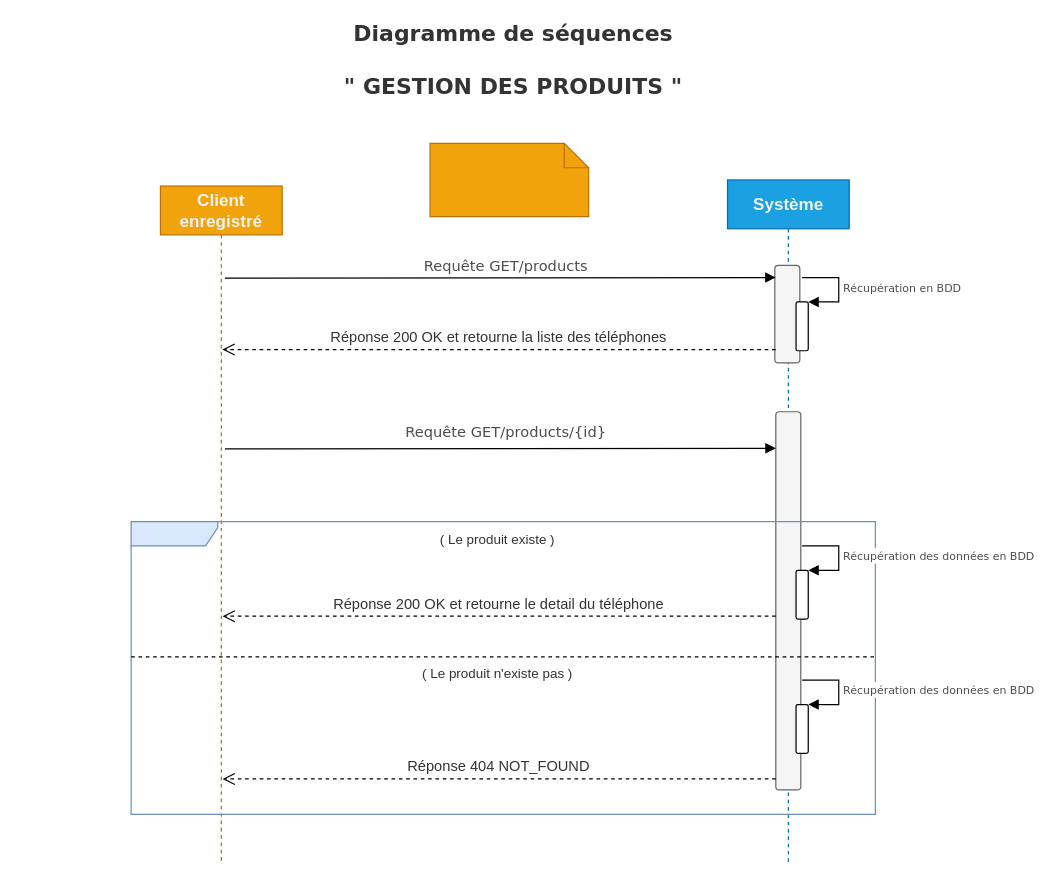
This 1055x886 diagram has some shape labels left out. The shapes that lost their labels are listed below. From the top down, each one's box as (x1, y1, x2, y2) in pixels, then its label:
(429, 142, 589, 217): Client enregistré + utilisation d'un Token à chaque requête
(130, 520, 875, 814): alt
